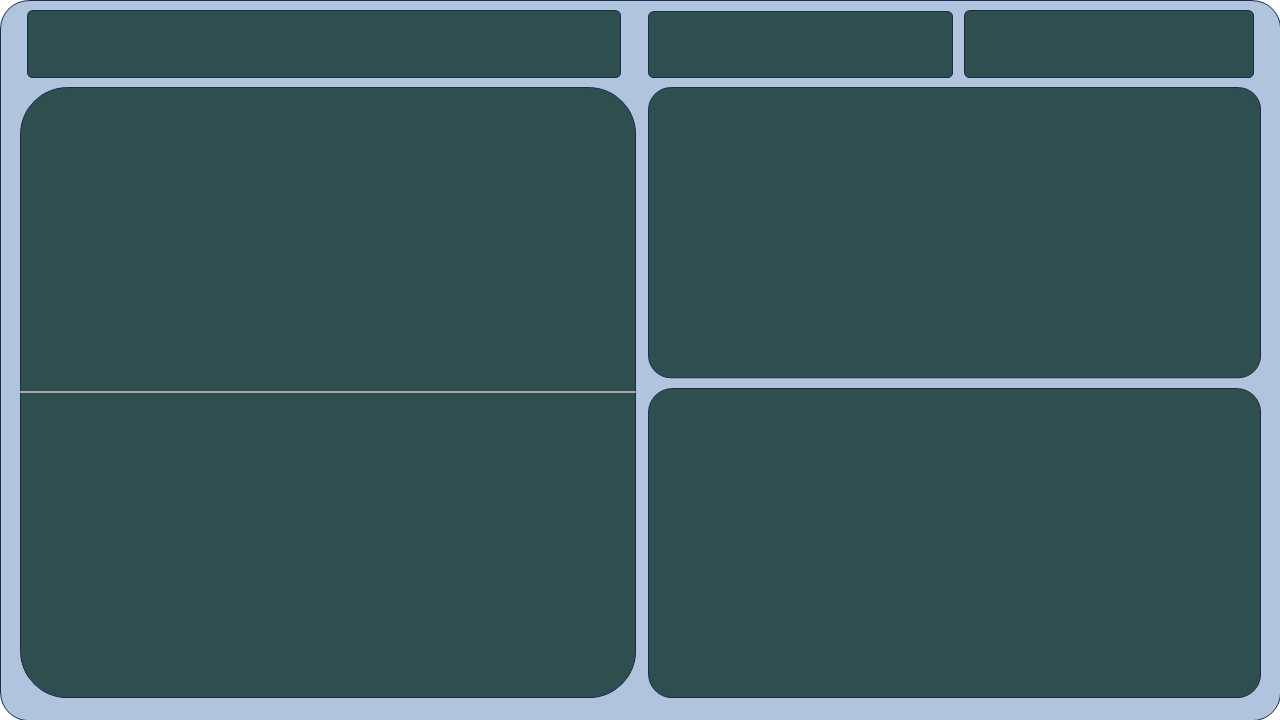

Layout of this report page (visuals, bound fields, positions):
{"tool":"powerbi","page":{"name":" Dashboard Overview","canvas":[1280,720],"ordinal":0},"visuals":[{"type":"barChart","title":"Screen Time Comparison: Urban vs Rural Kids","fields":{"Category":["Table.Urban_or_Rural"],"Y":["Avg(Table.Avg_Daily_Screen_Time_hr)"],"Series":["Table.Gender"]},"box":[36.2,394.5,592.4,301.6],"z":0},{"type":"lineChart","title":"Average Screen Time by Age Group","fields":{"Category":["Table.Age"],"Y":["Avg(Table.Avg_Daily_Screen_Time_hr)"],"Series":["Table.Gender"]},"box":[676.8,394.5,577.9,300.4],"z":1000},{"type":"donutChart","title":" Screen Time Compliance: Exceeded vs Within Limit","fields":{"Category":["Table.Exceeded_Recommended_Limit"],"Y":["Table.Total_Children"]},"box":[766.1,109.8,474.1,240.1],"z":2000},{"type":"slicer","fields":{"Values":["Table.Primary_Device"]},"box":[10.9,101.3,469.3,159.3],"z":3000},{"type":"card","fields":{"Values":["Table.Total_Children"]},"box":[44.5,276.1,185.9,83.5],"z":4000},{"type":"card","fields":{"Values":["Table.Average_Screen_Time"]},"box":[264.9,276.1,185.9,83.5],"z":5000},{"type":"card","fields":{"Values":["Table.Exceeded_Limit_Percentage"]},"box":[479.8,277.2,197,82.4],"z":6000},{"type":"textbox","box":[36.6,29.3,489.9,58.6],"z":7000},{"type":"textbox","box":[526.5,13.4,728.1,88],"z":8000},{"type":"image","box":[463,96.5,290.7,167.4],"z":9000}]}

Visuals, with their boxes in screenshot pixels (x1, y1, x2, y2), scaled from the page's 1280x720 canvas onto the 1280x720 screenshot:
"Screen Time Comparison: Urban vs Rural Kids" barChart: 36:394:629:696
"Average Screen Time by Age Group" lineChart: 677:394:1255:695
" Screen Time Compliance: Exceeded vs Within Limit" donutChart: 766:110:1240:350
slicer - Table.Primary_Device: 11:101:480:261
card - Table.Total_Children: 44:276:230:360
card - Table.Average_Screen_Time: 265:276:451:360
card - Table.Exceeded_Limit_Percentage: 480:277:677:360
textbox: 37:29:526:88
textbox: 526:13:1255:101
image: 463:96:754:264
